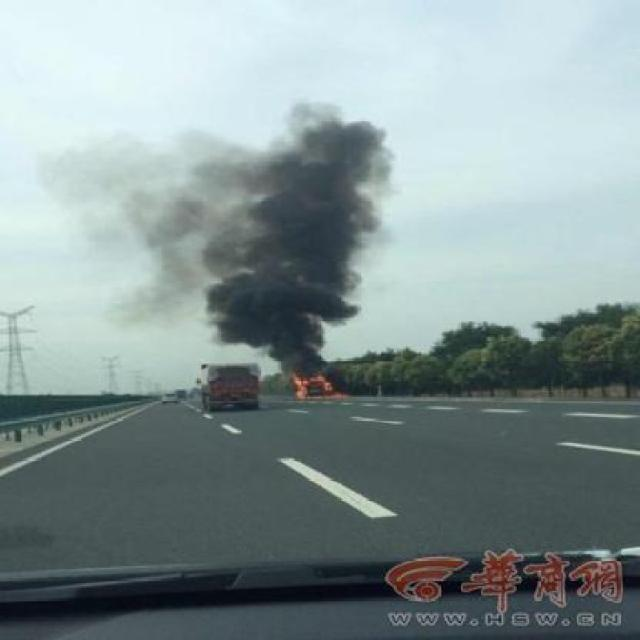Fire: (289, 372, 342, 401)
Smoke: (199, 120, 392, 369)
